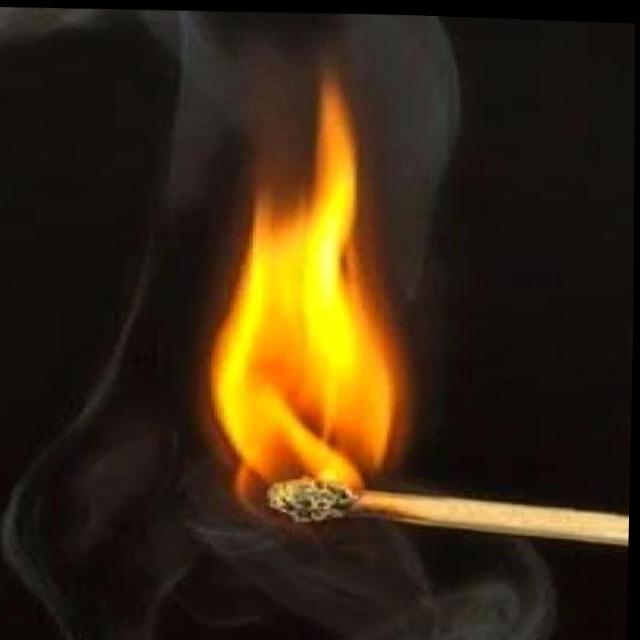fire: (195, 61, 445, 522)
